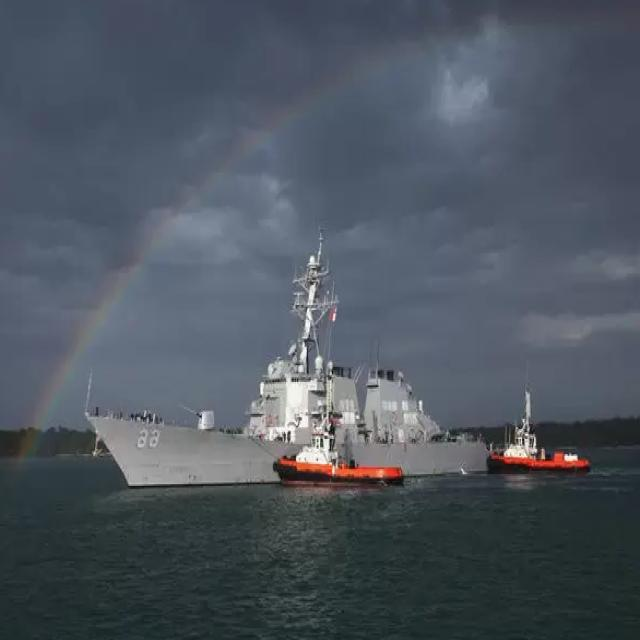navalvessels: (86, 235, 489, 483), (275, 421, 404, 493), (494, 390, 582, 476)
